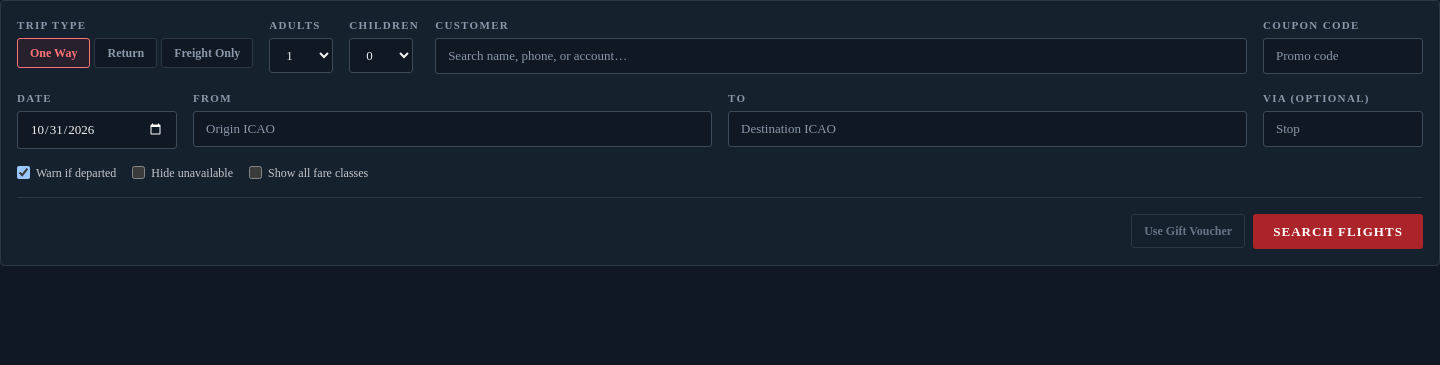
Scenario: NewBookingSearchForm — when the search fails › says the session expired when that is what happened
In the field with placeholder "Origin ICAO": (452,129) [193,111,712,147], type "PANC"
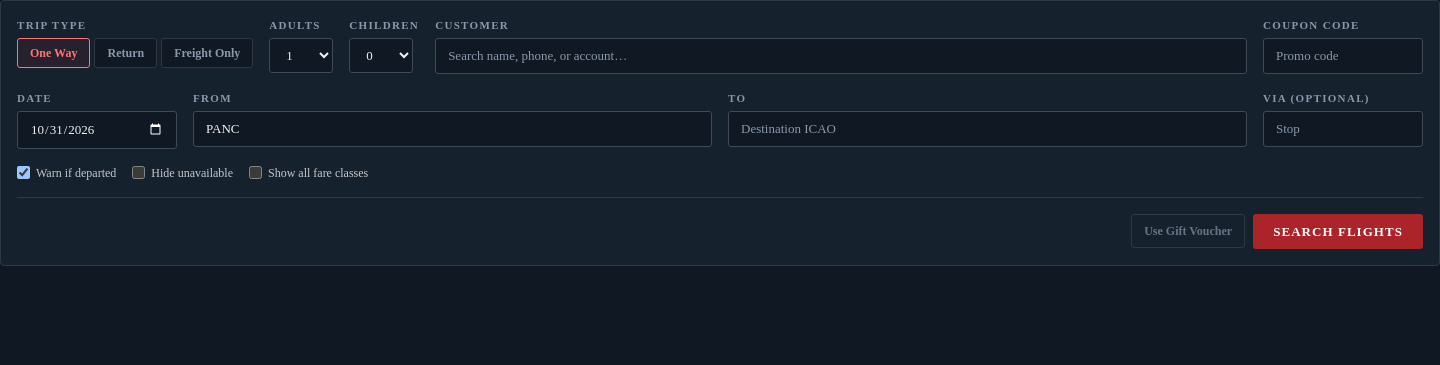
In the field with placeholder "Destination ICAO": (988,129) [728,111,1247,147], type "PABE"
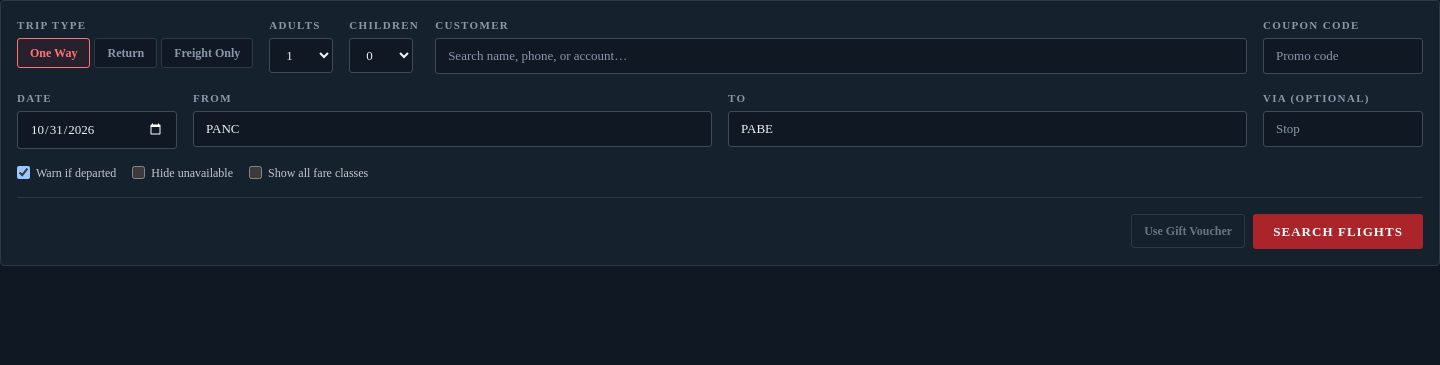
Click the button "Search Flights": (1338,231) [1253,214,1423,249]
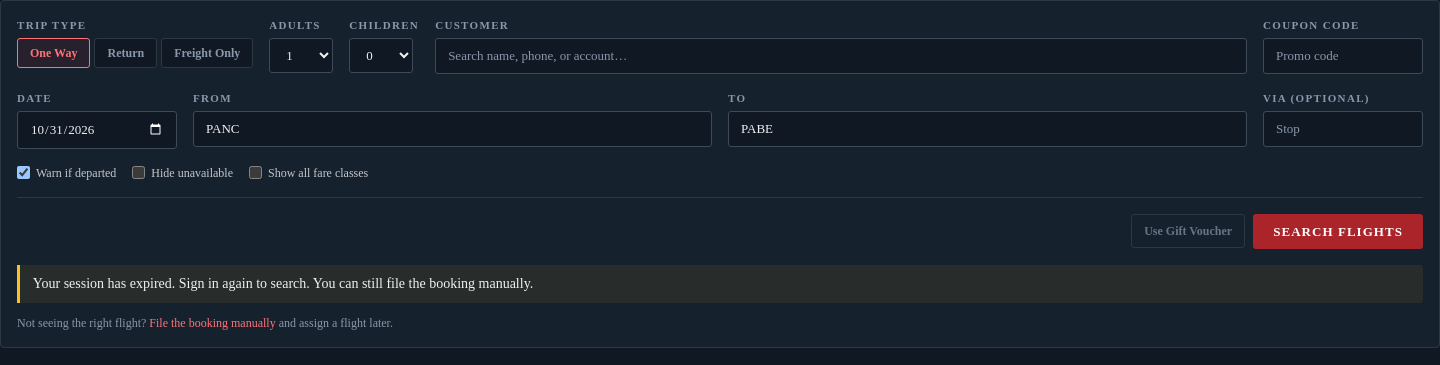
Now the text "session has expired" is shown, box [33,276,533,291]
